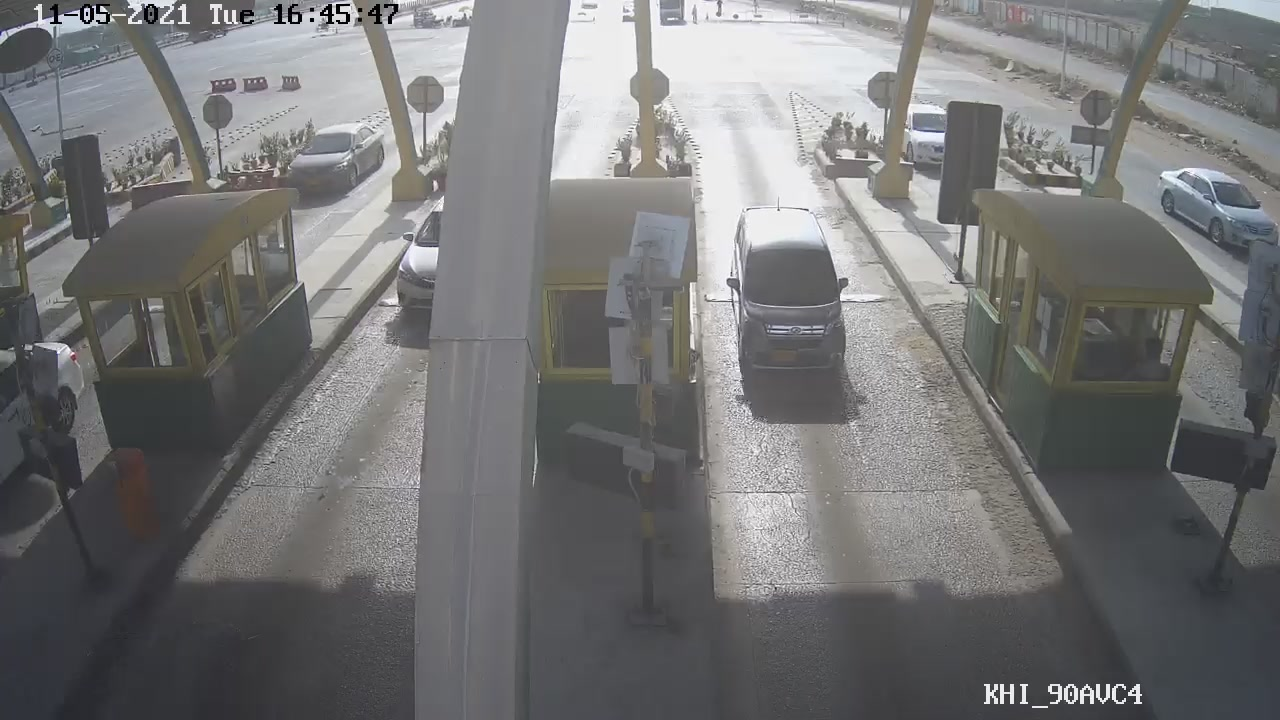F1: (718, 200, 860, 375)
